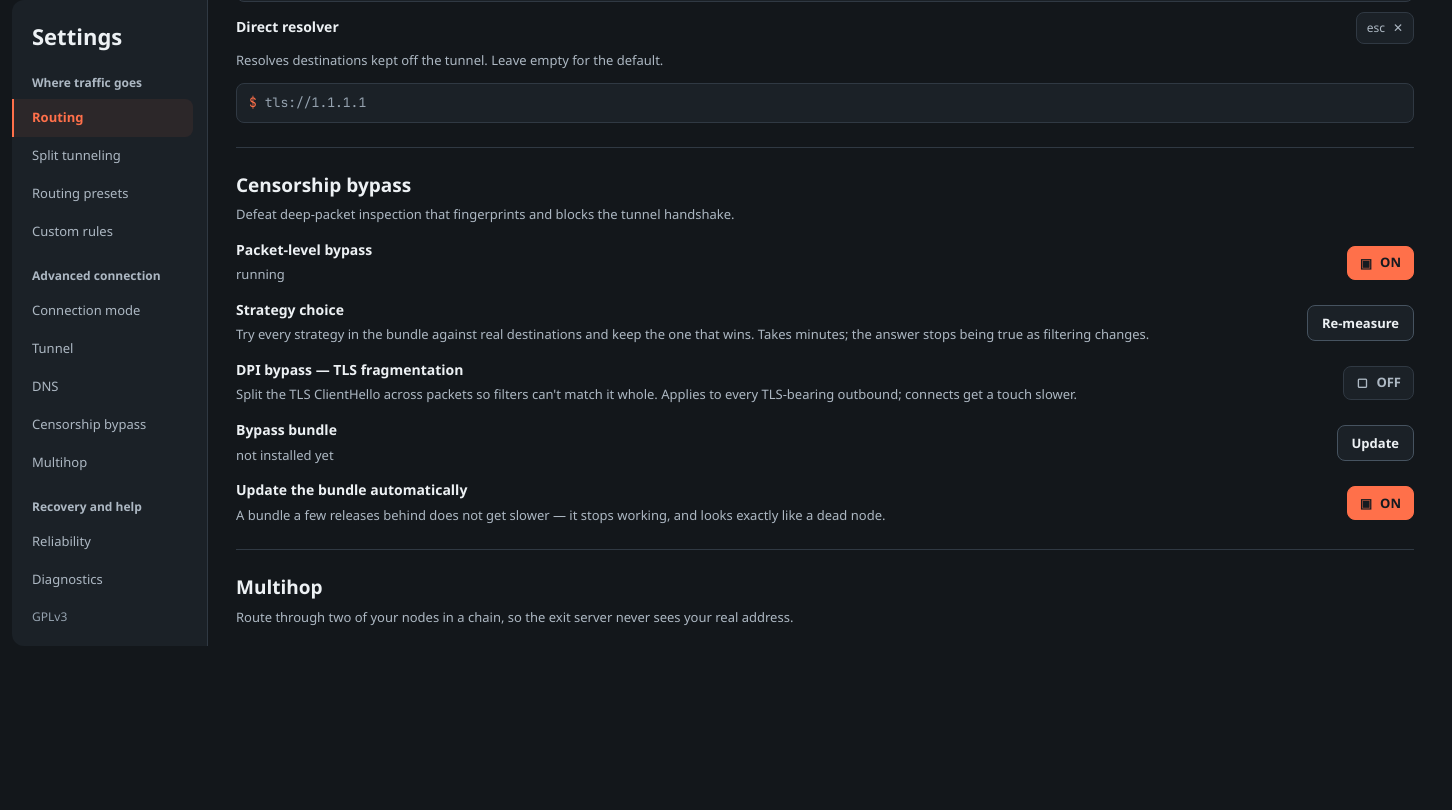
Test: SettingsScreen — bypass bundle › controls › run progress › says what the opening minute is doing
(page scrolled)
Click the button "Re-measure". click: {"x": 1360, "y": 323}
box: [1307,305,1414,341]
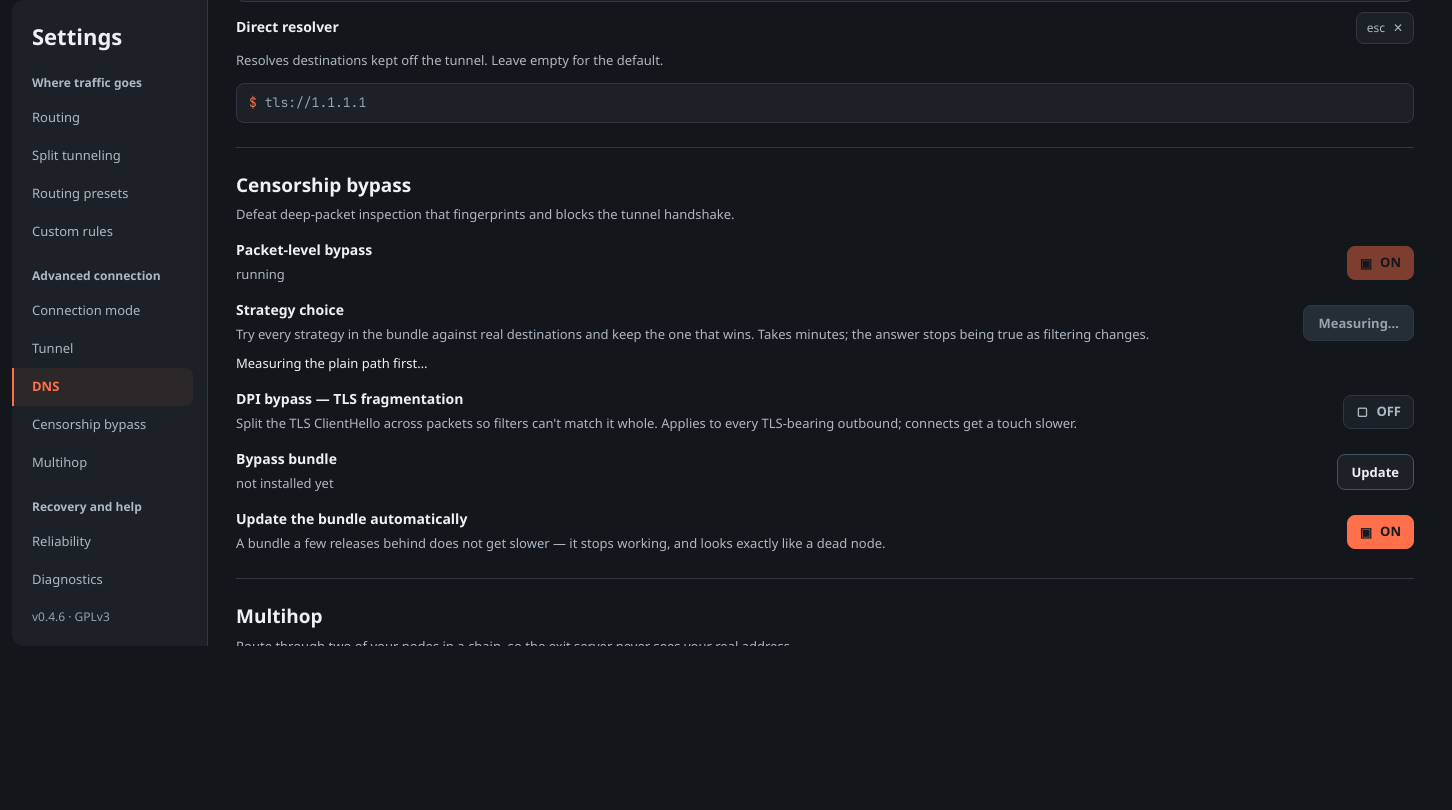
Expected: the text "Measuring the plain path" is shown, [236,354,428,372]
